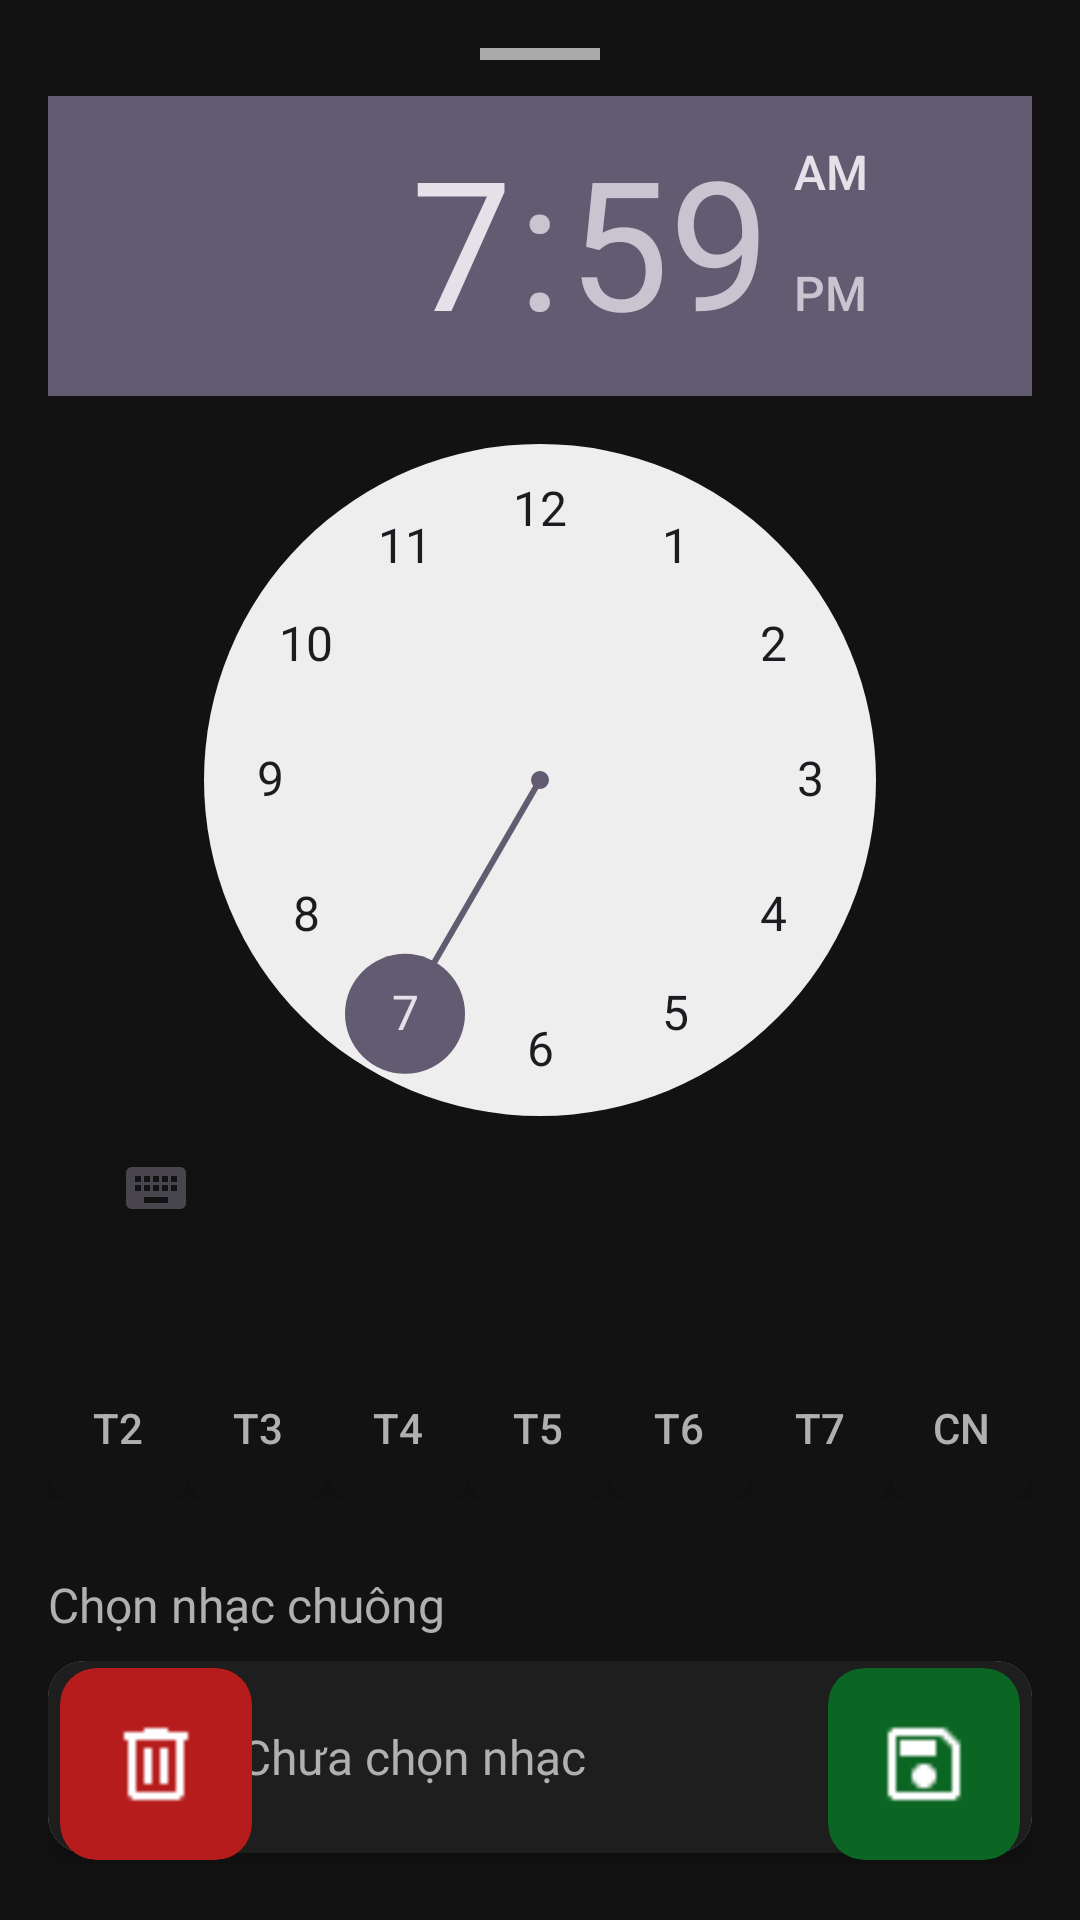

Icons on this 1080px×1920px Android screen, each with its box as (x1, y1, x2, y2):
save: (828, 1668, 1020, 1860)
